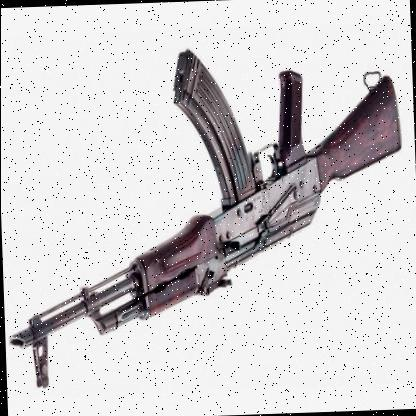rifle: (1, 38, 405, 354)
